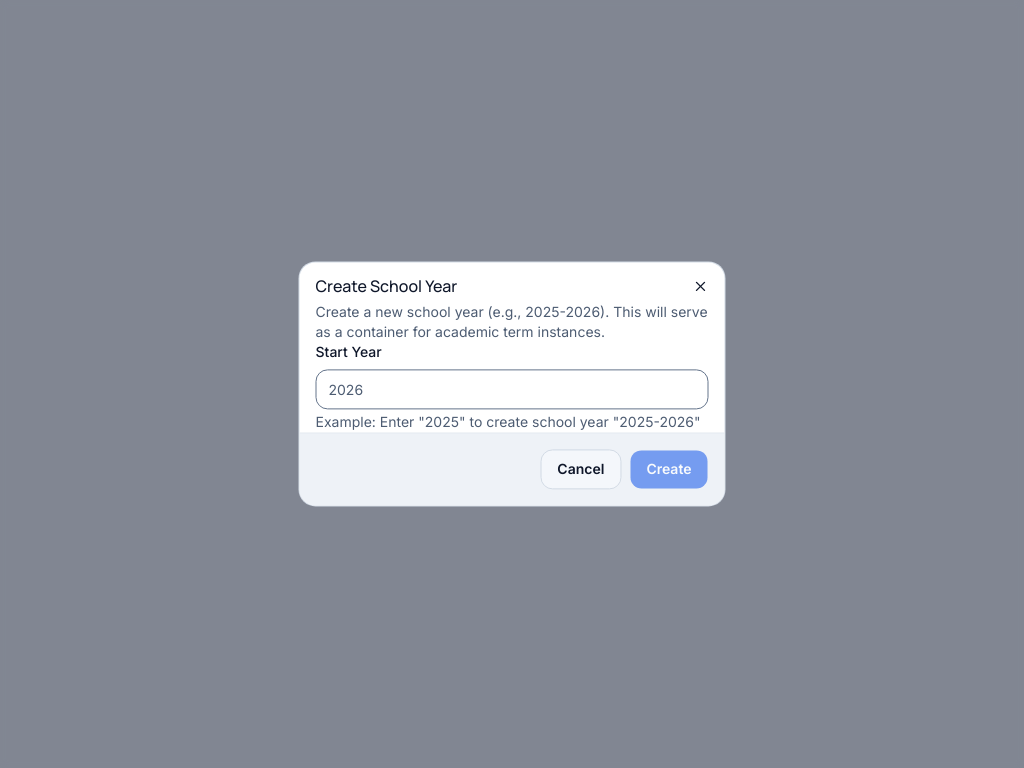
Test: SchoolYearForm › surfaces a server error and keeps the dialog open
The width and height of the screenshot is (1024, 768).
In the number field labelled "Start Year": (512, 390) [316,370,708,410], type "2025"
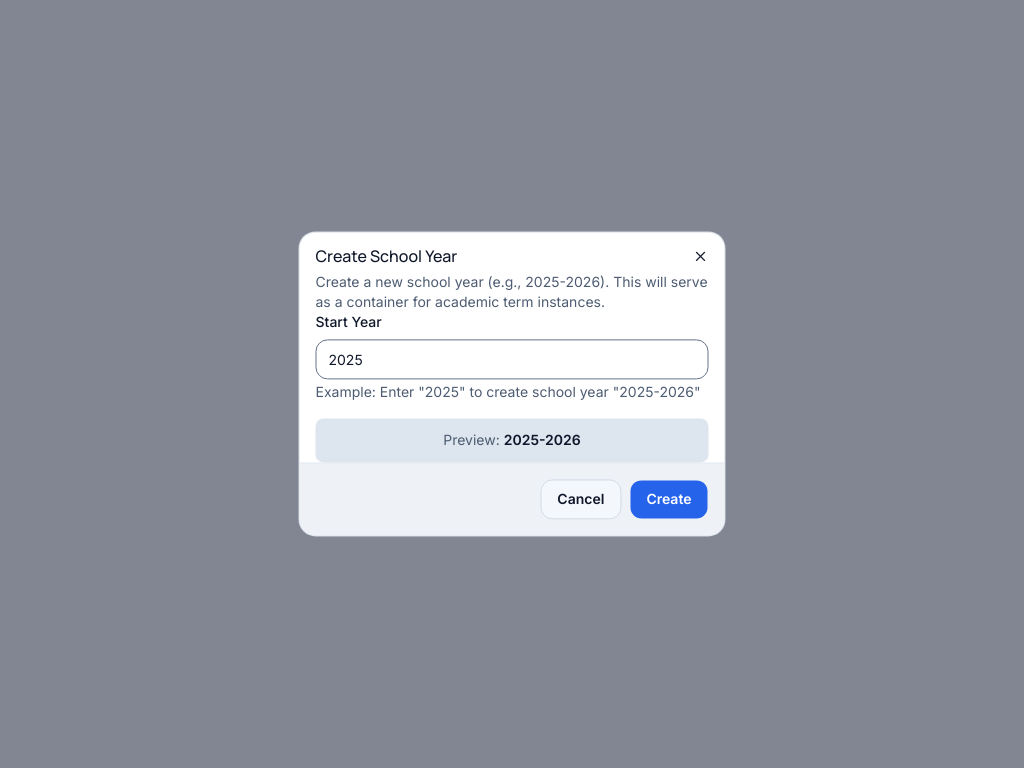
Click the button "Create": (669, 500) [629,480,708,520]
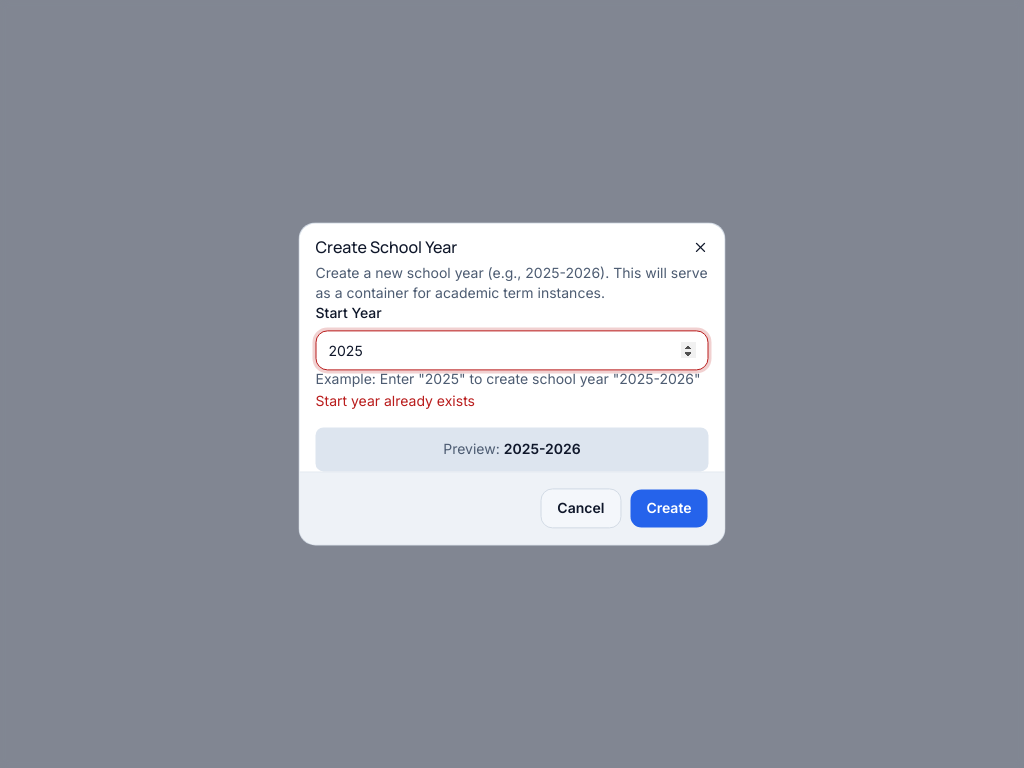
Now the text "Start year already exists" is shown, box [316,393,475,410]
